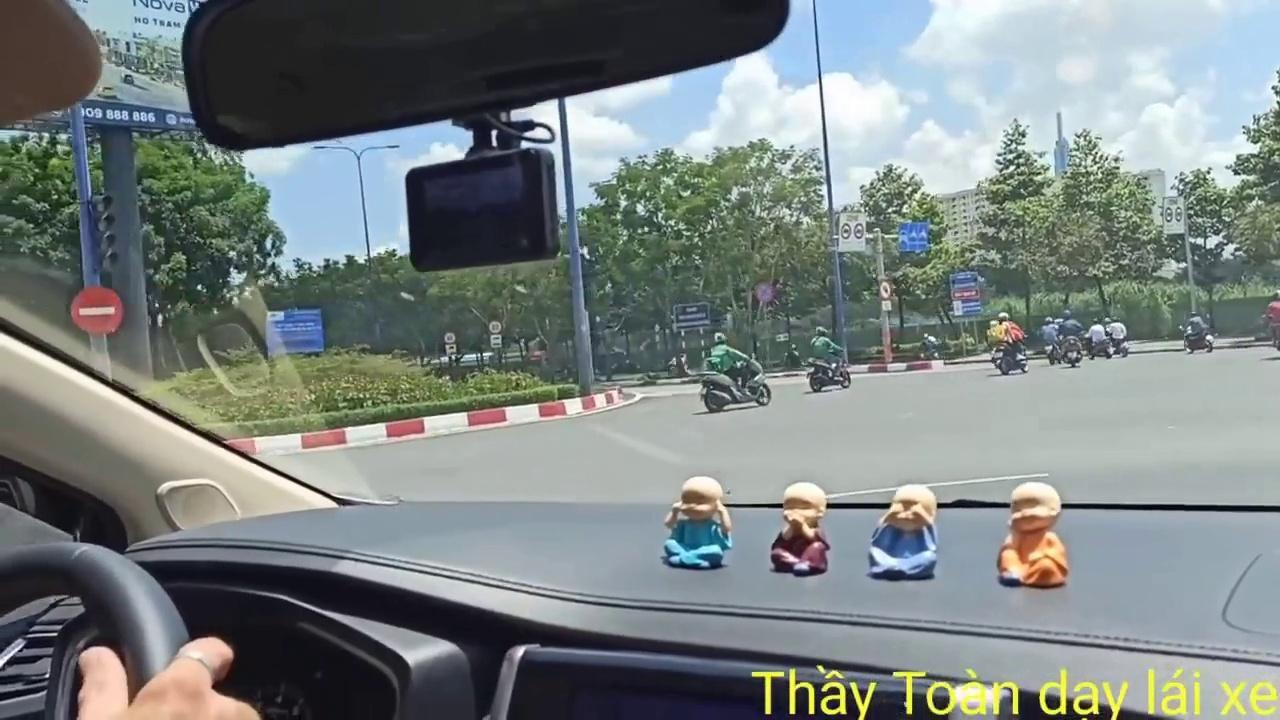Biển phụ: (490, 334, 503, 348), (445, 344, 458, 356)
Cấm cac phương tiện hoạt động trong khung giờ cố định: (838, 210, 867, 253)
Cấm dừng - Cấm đỗ: (753, 279, 775, 303)
Cấm xe máy: (877, 278, 893, 298)
Cấm đi ngược chiều: (68, 282, 125, 338)
Khác: (264, 309, 324, 352), (949, 271, 982, 316)
Làn đường cho từng xe: (895, 221, 932, 253)
